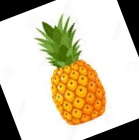Pineapple: (35, 14, 107, 125)
